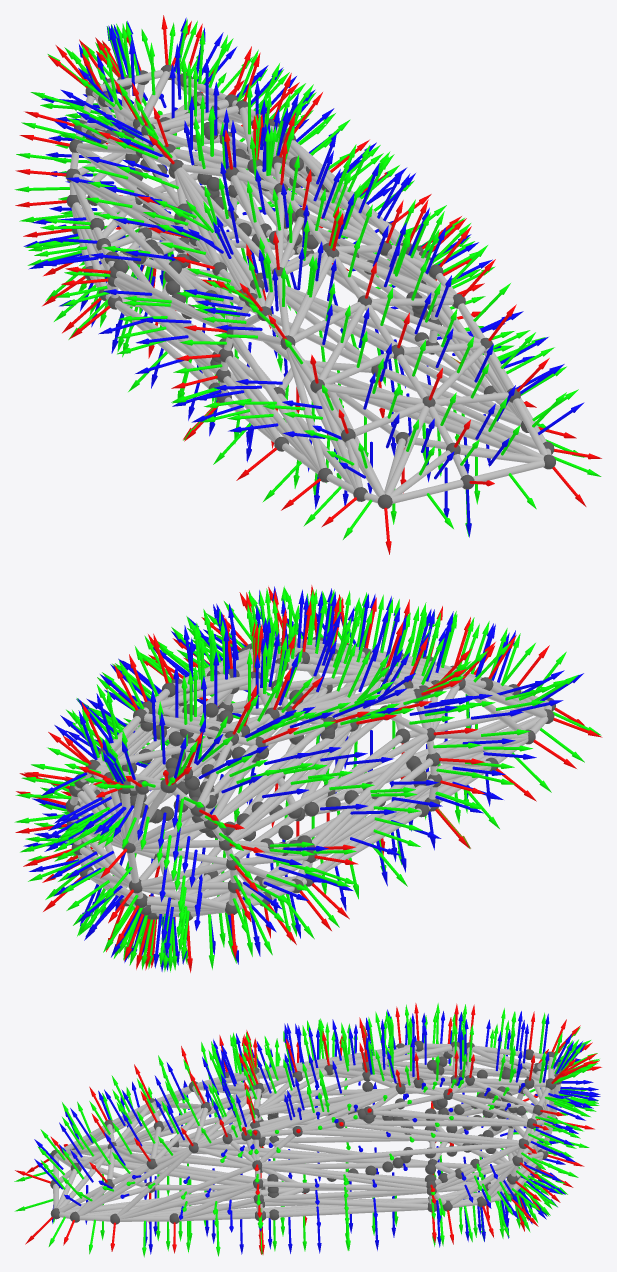
The model's file is t2f_hand_vacuum.gltf.
3 views of the same model, one above another, from view 1: azimuth 30°, elevation 25°; view 2: azimuth 150°, elevation 25°; view 3: azimuth 270°, elevation 25° (orthographic). The views are drawn at different scales.
Size of the model in its own units: 0.4852 by 0.4088 by 1.07.
